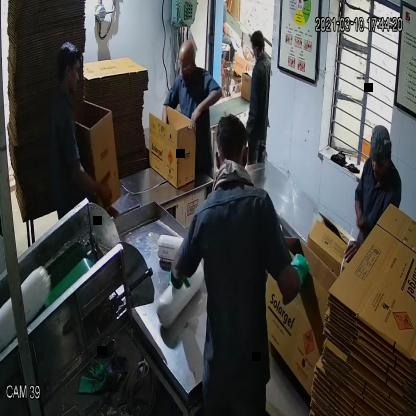no_glove: (66, 157, 120, 211), (183, 87, 224, 130)
